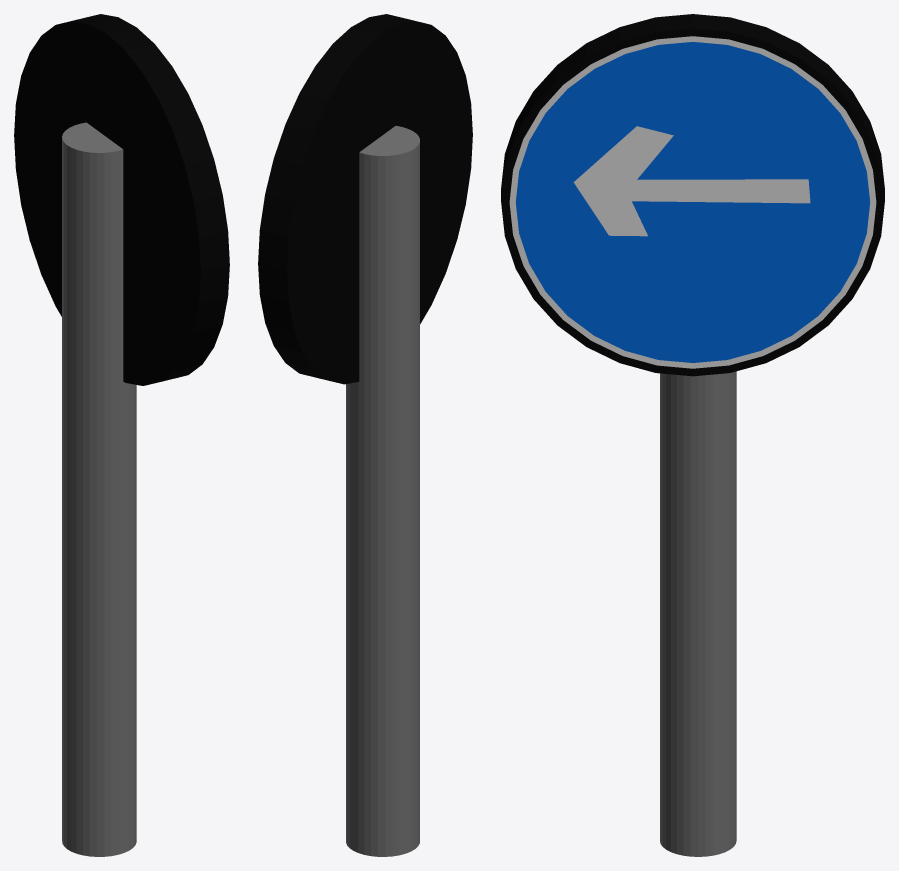
The model's file is go_left.fbx.
3 renders of one model, left to right at view 1: azimuth 30°, elevation 25°; view 2: azimuth 150°, elevation 25°; view 3: azimuth 270°, elevation 25°, orthographic. The views are drawn at different scales.
Visible parts, largest first — view 1: Cylinder, Circle; view 2: Cylinder, Circle; view 3: Circle, Cylinder.
Part boxes in pixels (box(x1,y1,x2,y2)): Cylinder: box(62, 122, 136, 856); Circle: box(14, 14, 229, 385); Cylinder: box(346, 126, 419, 856); Circle: box(258, 14, 472, 384); Circle: box(501, 14, 884, 376); Cylinder: box(660, 371, 736, 856).
Size of the model in its own units: 2.07 by 23.85 by 10.
